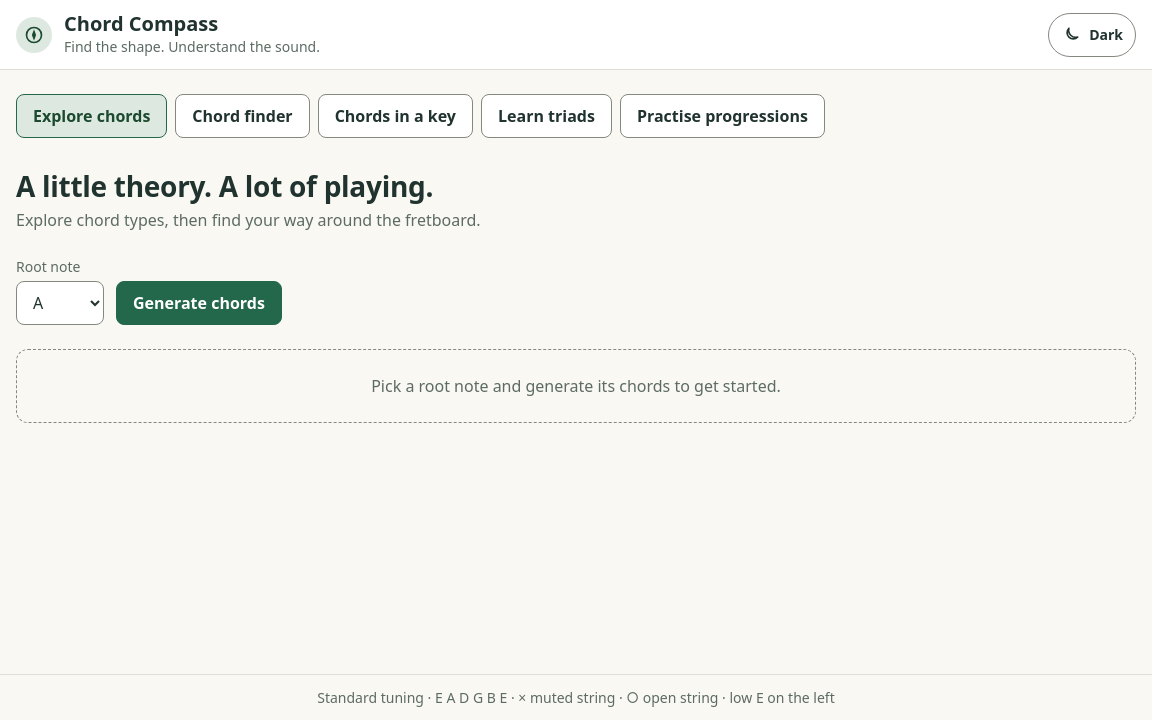
Scenario: scale fretboard in explore chords › renders A major with roots, chord tones and the other scale notes
Select "A" in the dropdown labelled "Root note". click: (60, 303)
box: [16,281,104,325]
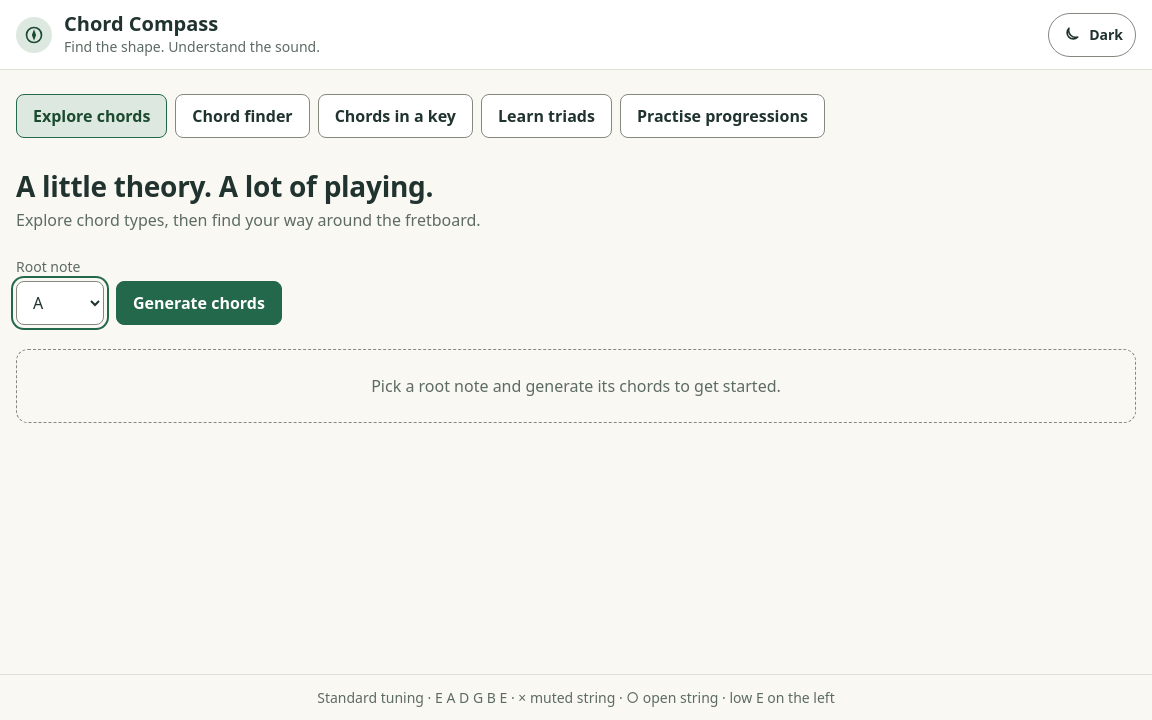
Click the button "Generate chords". click: (199, 303)
box: [116,281,282,325]
(page scrolled)
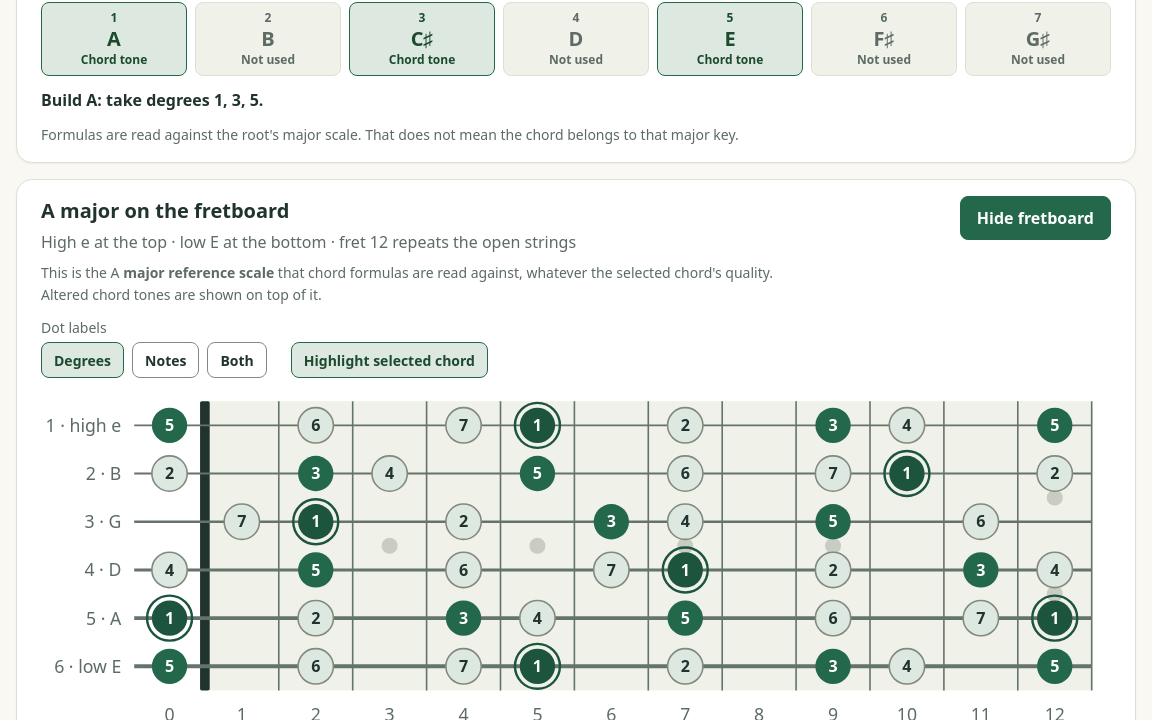
expect the heading "A major on the fretboard" is shown: met, box [41,197,289,224]
